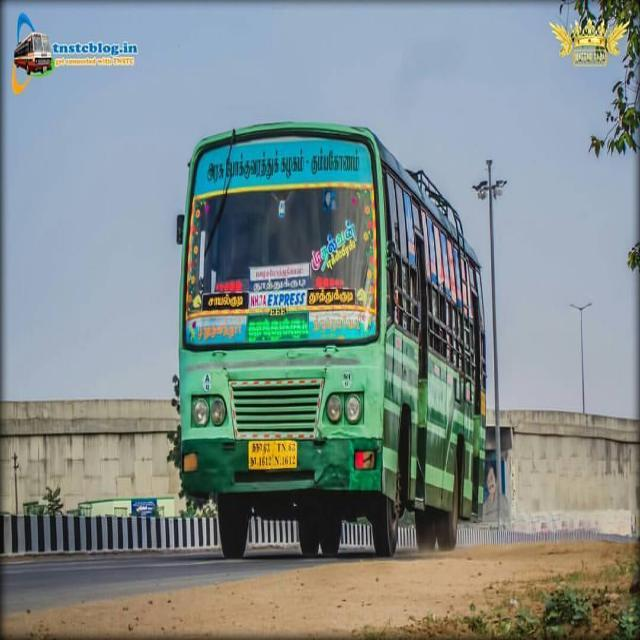Bus: (172, 117, 488, 556)
